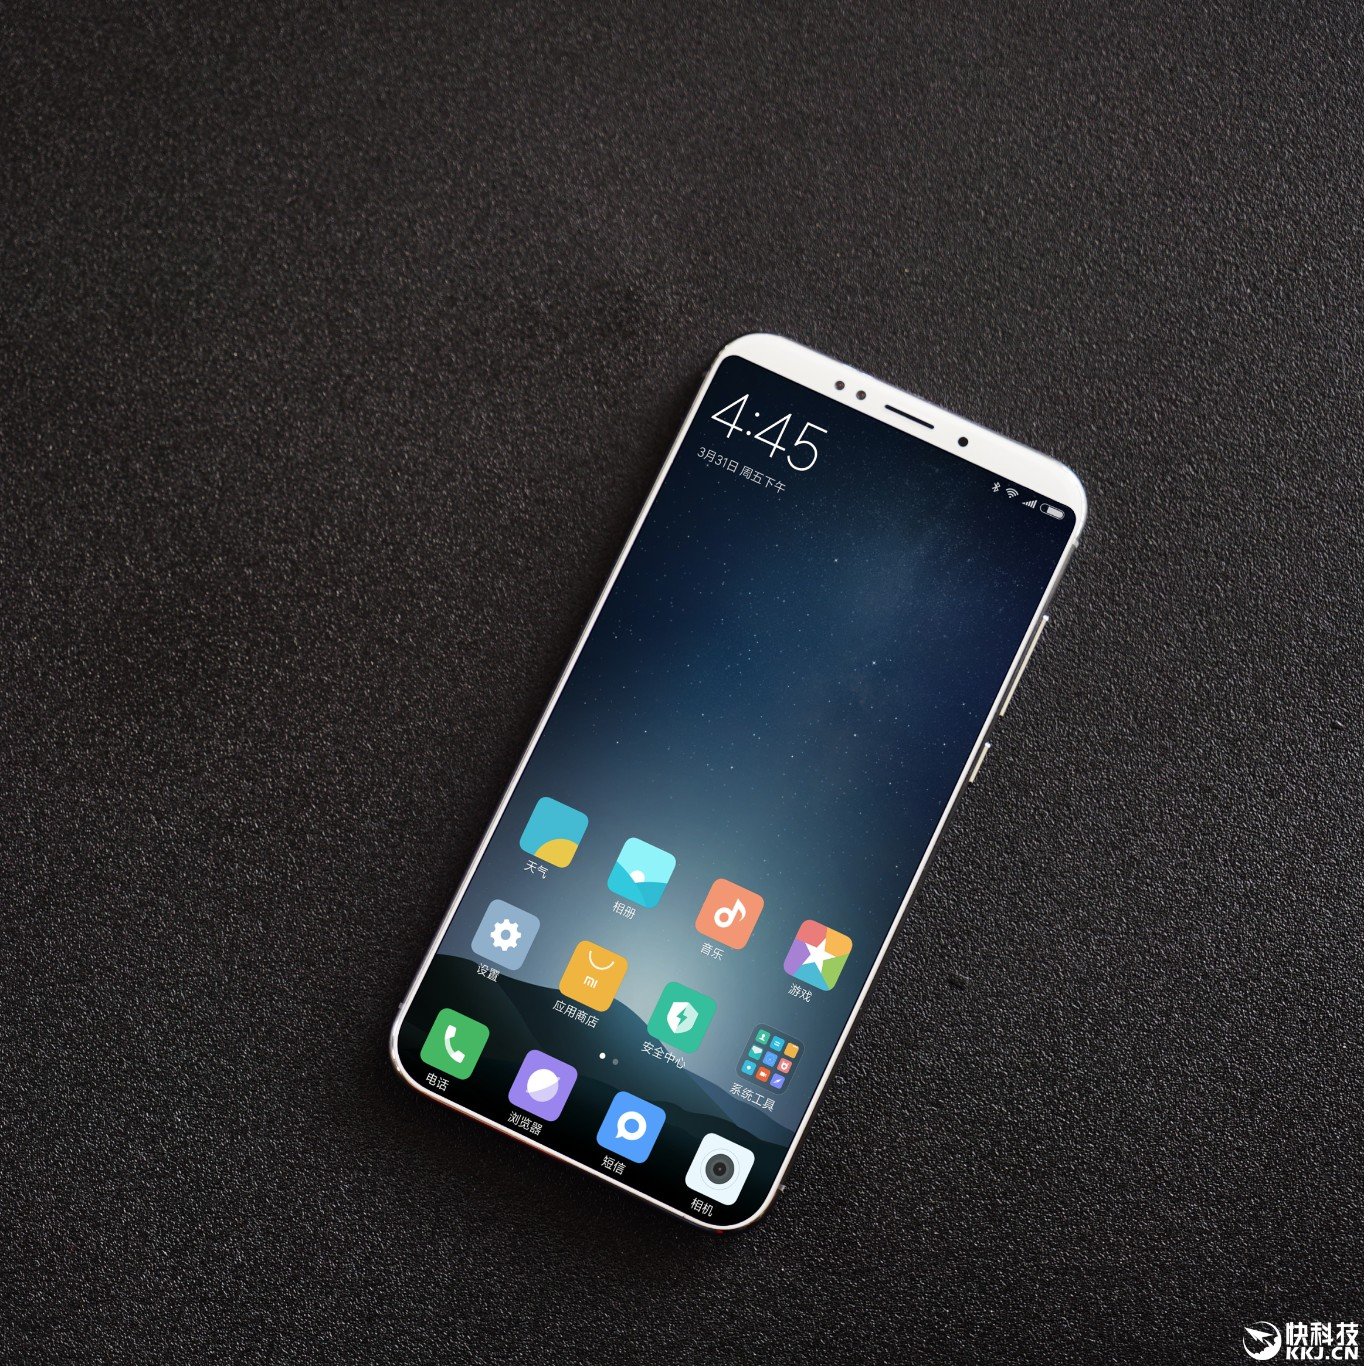smartphone: (388, 332, 1088, 1230)
